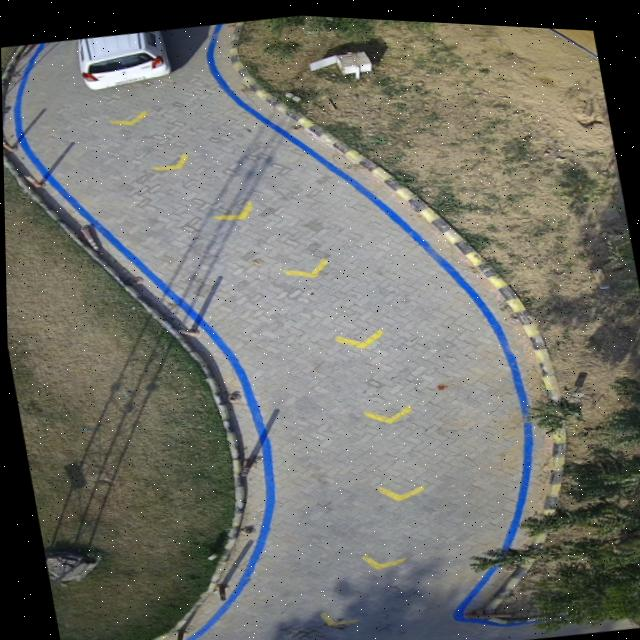car: (75, 28, 172, 88)
